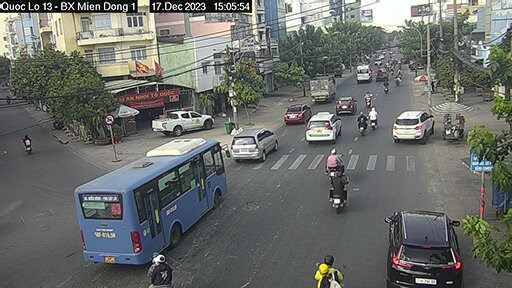bus: (54, 138, 240, 246)
car: (382, 192, 457, 288), (224, 119, 276, 160), (147, 106, 215, 131), (389, 104, 431, 142), (306, 107, 331, 146), (333, 96, 357, 116), (354, 64, 372, 89), (285, 102, 304, 122)
motorbike: (301, 252, 358, 287), (322, 145, 351, 176), (322, 180, 351, 202), (366, 107, 384, 136)
truck: (308, 71, 342, 109)
